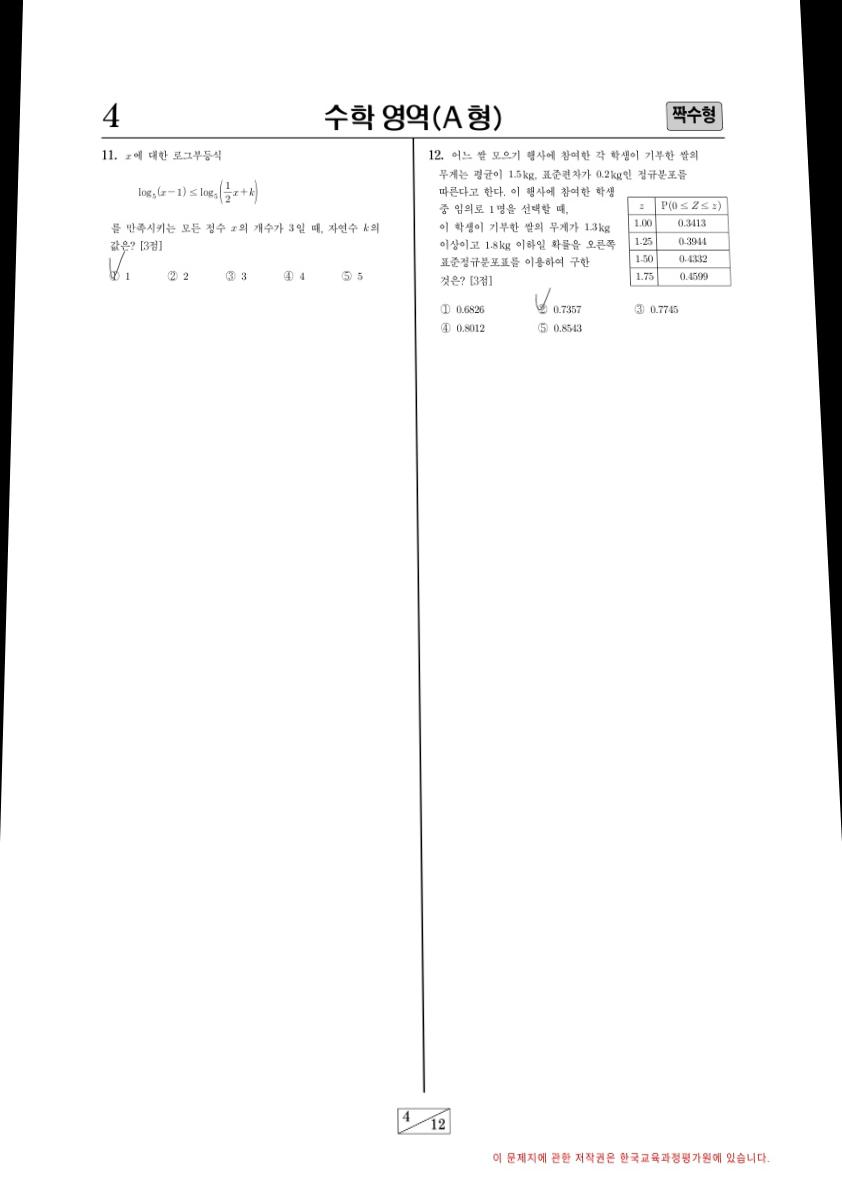question: (419, 142, 739, 352), (86, 141, 393, 298)
